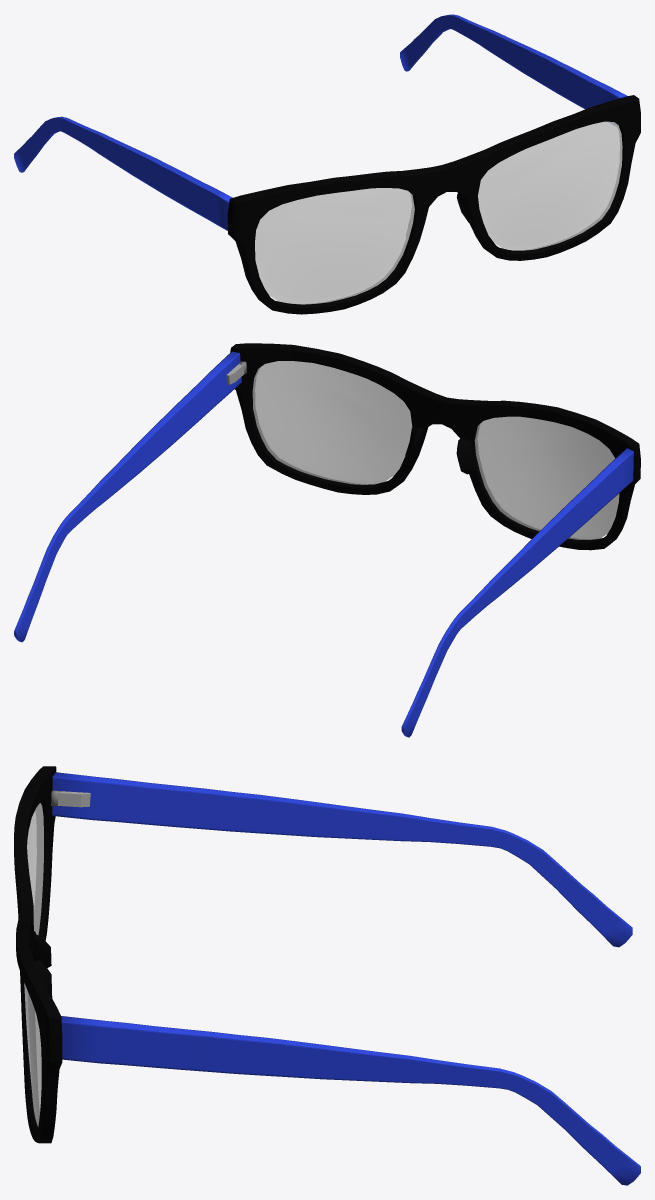
File: glass1.gltf
The picture shows the model from 3 angles, top to bottom: view 1: azimuth 30°, elevation 25°; view 2: azimuth 150°, elevation 25°; view 3: azimuth 270°, elevation 25°; orthographic projection. The views are drawn at different scales.
Visible parts, largest first — view 1: lens, frame, Cube.001, Cube; view 2: lens, frame, Cube, Cube.001; view 3: Cube, Cube.001, frame, lens, Cylinder.001.
Part boxes in pixels (<box>): lens: <box>255,121,622,304</box>; frame: <box>227,95,640,314</box>; Cube.001: <box>14,116,232,230</box>; Cube: <box>400,14,627,126</box>; lens: <box>252,361,619,539</box>; frame: <box>230,343,640,550</box>; Cube: <box>14,351,241,642</box>; Cube.001: <box>401,448,633,737</box>; Cube: <box>61,1016,640,1185</box>; Cube.001: <box>52,772,632,947</box>; frame: <box>14,766,62,1143</box>; lens: <box>24,803,43,1126</box>; Cylinder.001: <box>51,790,90,807</box>.
Size of the model in its own units: 3.24 by 1.09 by 3.34.
